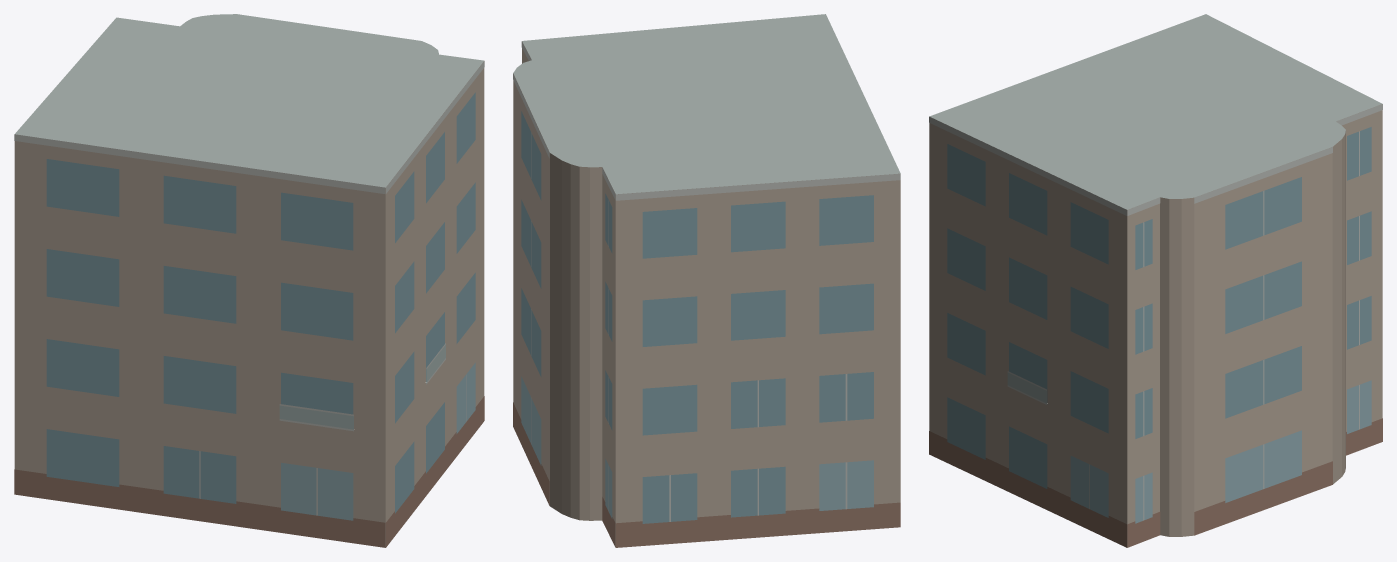
Rendered from survey-upis-32971594.glb.
3 views of the same model, side by side, from view 1: azimuth 30°, elevation 25°; view 2: azimuth 150°, elevation 25°; view 3: azimuth 270°, elevation 25° (orthographic). The views are drawn at different scales.
Parts seen in each view (by area): view 1: survey-upis-32971594.tmp; view 2: survey-upis-32971594.tmp; view 3: survey-upis-32971594.tmp.
Part boxes in pixels (x1,y1,x2,y2): survey-upis-32971594.tmp: (14,14,484,547); survey-upis-32971594.tmp: (513,14,900,547); survey-upis-32971594.tmp: (929,14,1382,547).
Size of the model in its own units: 16.42 by 13.2 by 16.06.
